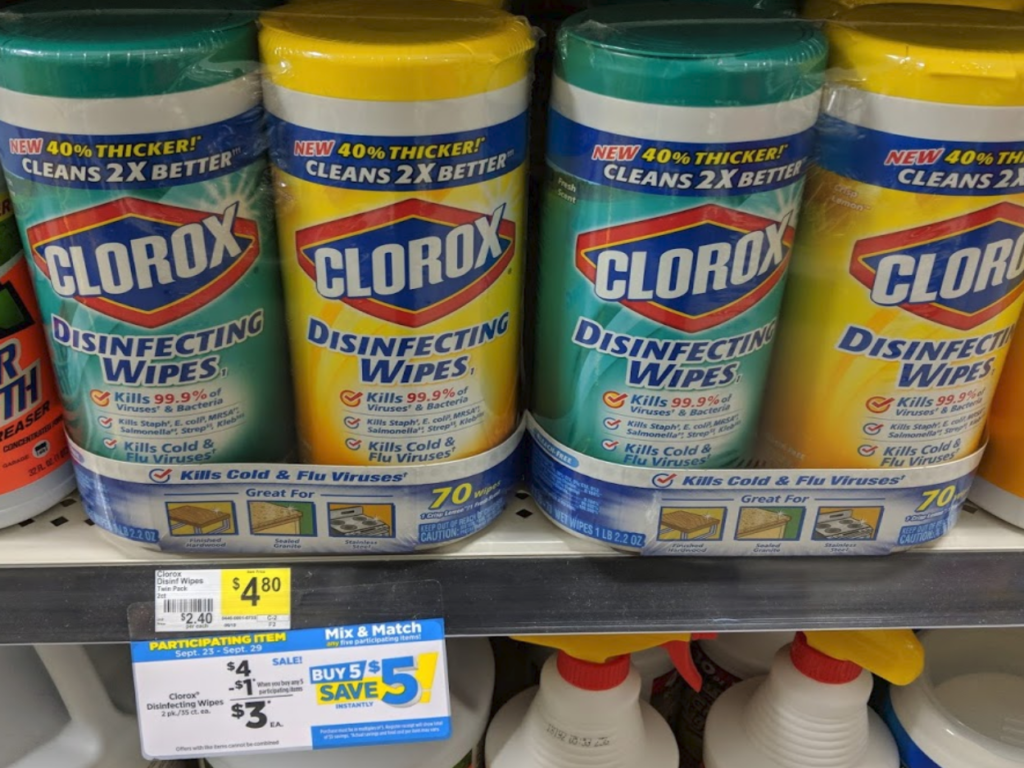Wipes: (536, 7, 823, 544), (260, 6, 526, 533), (3, 20, 261, 549), (826, 4, 1022, 540)
